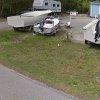Boat: (4, 7, 99, 49)
